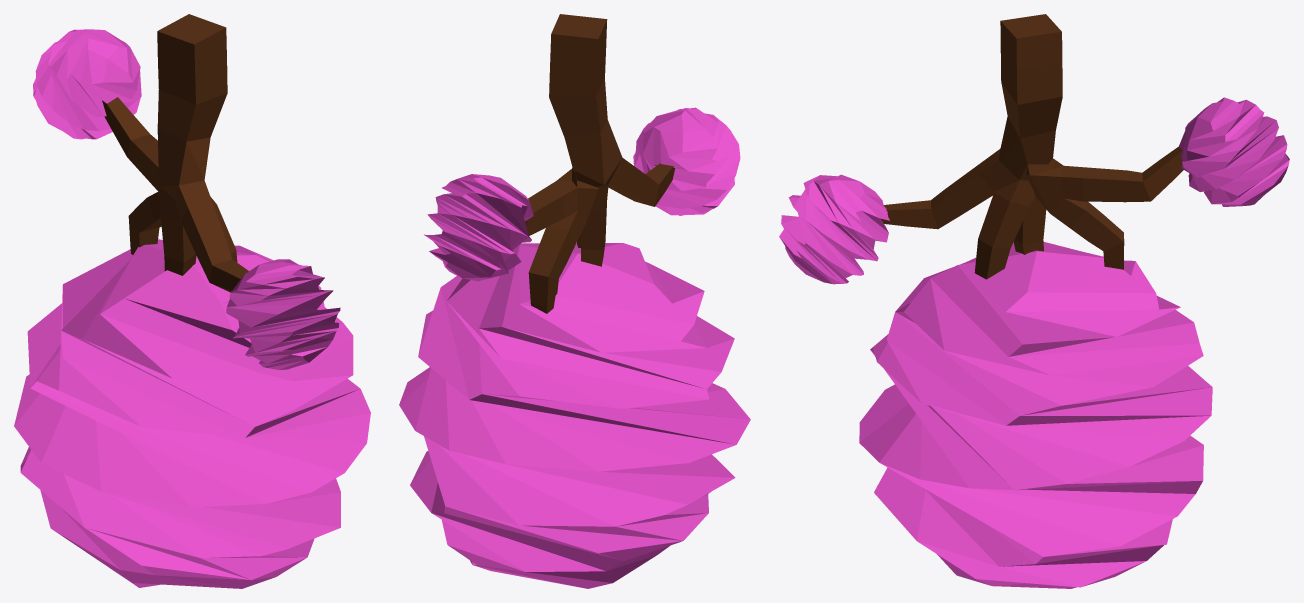
The model's file is bruh.fbx.
3 views of the same model, side by side, from view 1: azimuth 30°, elevation 25°; view 2: azimuth 150°, elevation 25°; view 3: azimuth 270°, elevation 25° (orthographic).
Visible parts, largest first — view 1: Cube.001; view 2: Cube.001; view 3: Cube.001.
Part boxes in pixels (x1=…): Cube.001: x1=14, y1=14, x2=370, y2=588; Cube.001: x1=399, y1=14, x2=750, y2=588; Cube.001: x1=779, y1=14, x2=1289, y2=588.
Bounding box in the file's own units: 372 × 623 × 529.
